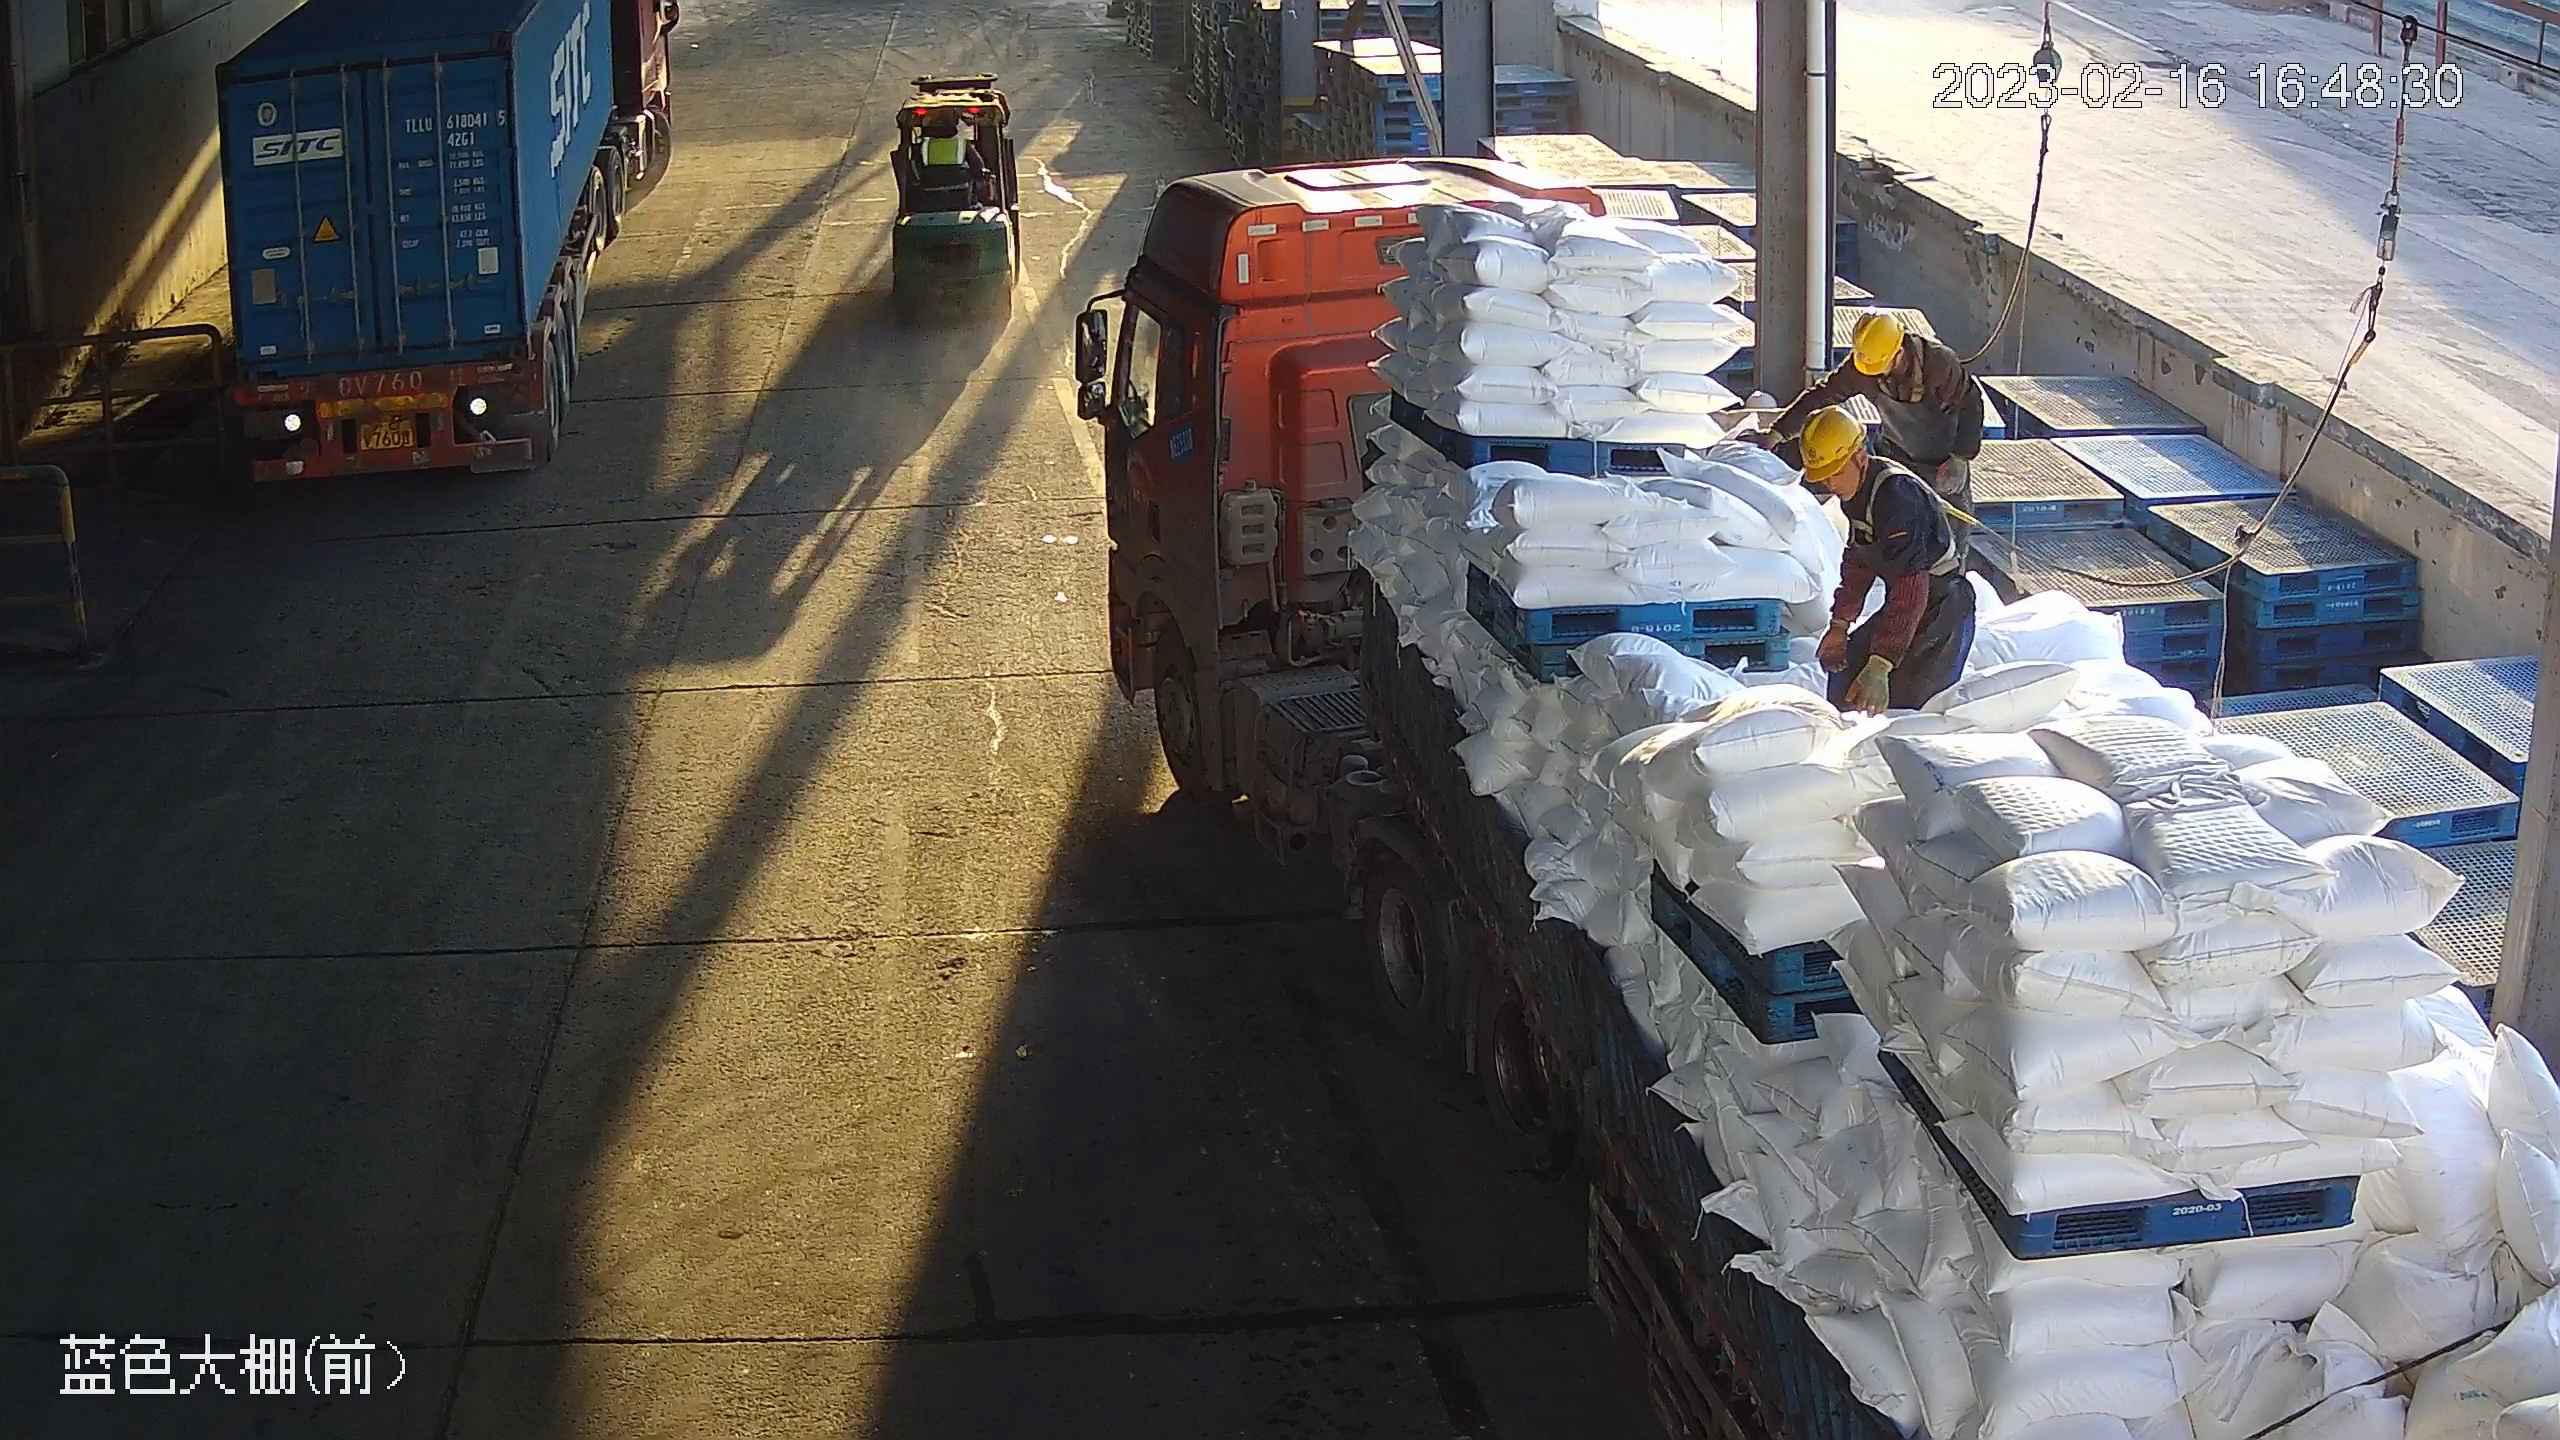belt: (1848, 455, 1961, 574), (1878, 335, 1926, 402)
head: (1799, 402, 1931, 528), (1836, 310, 1955, 394)
helmet: (1798, 404, 1866, 482), (1849, 311, 1904, 375)
people: (1735, 310, 1986, 580), (1798, 402, 1975, 721)
truck: (1070, 157, 2560, 1440), (212, 1, 675, 487)
